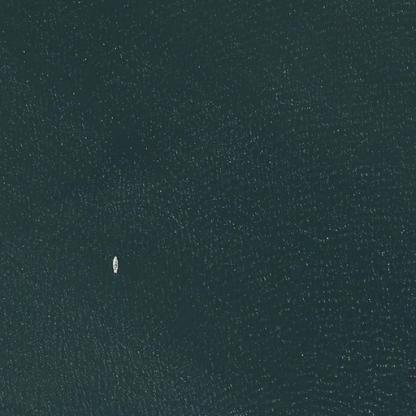ship: (106, 252, 118, 275)
